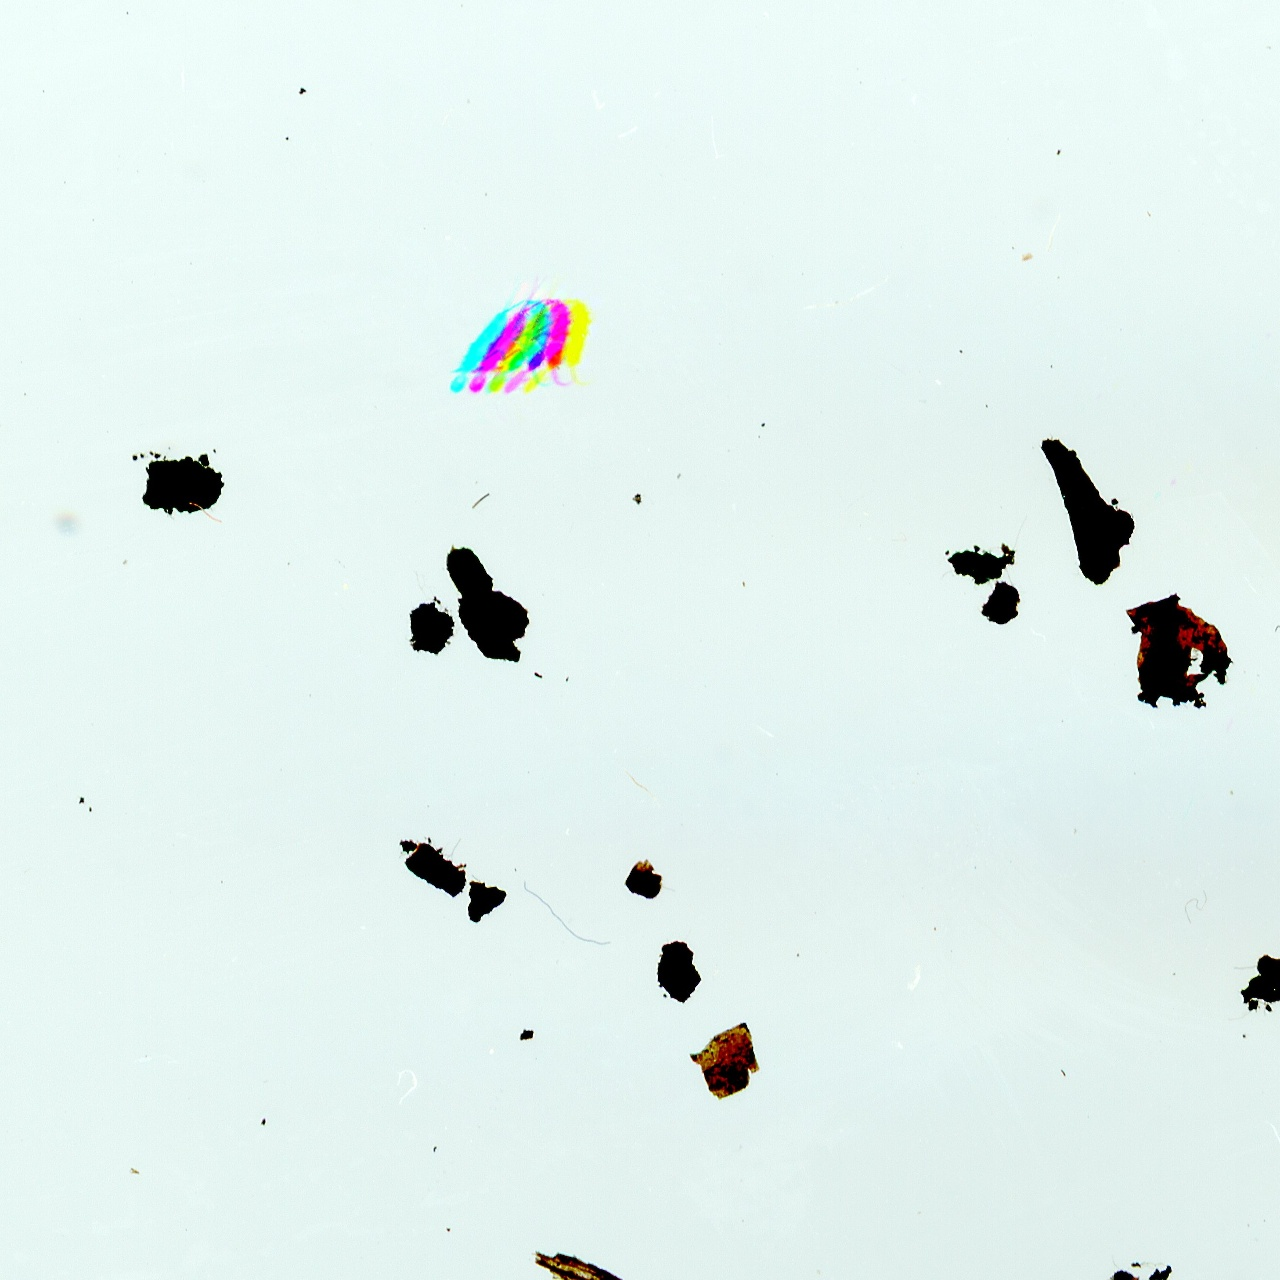arthropod: (465, 300, 527, 395), (532, 286, 579, 392)
